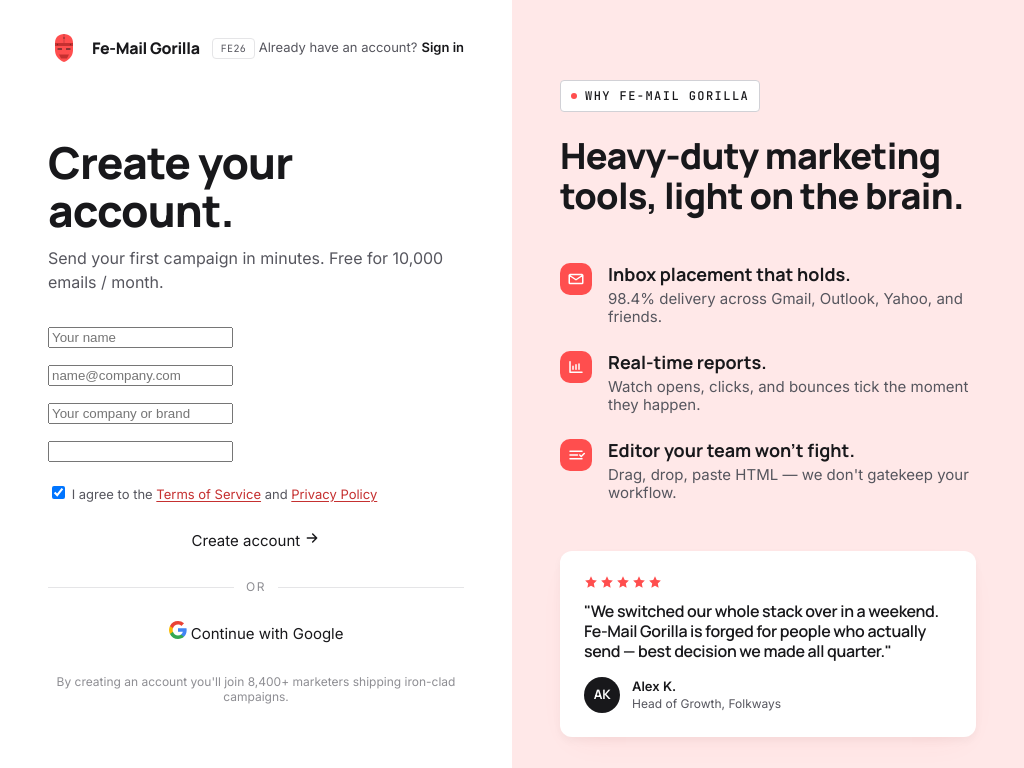
it: signup.vue › SIGNUP-03: unticked terms is blocked
Type "ok@example.com" into the field with placeholder "name@company.com" at (140, 376), box [48, 365, 233, 386]
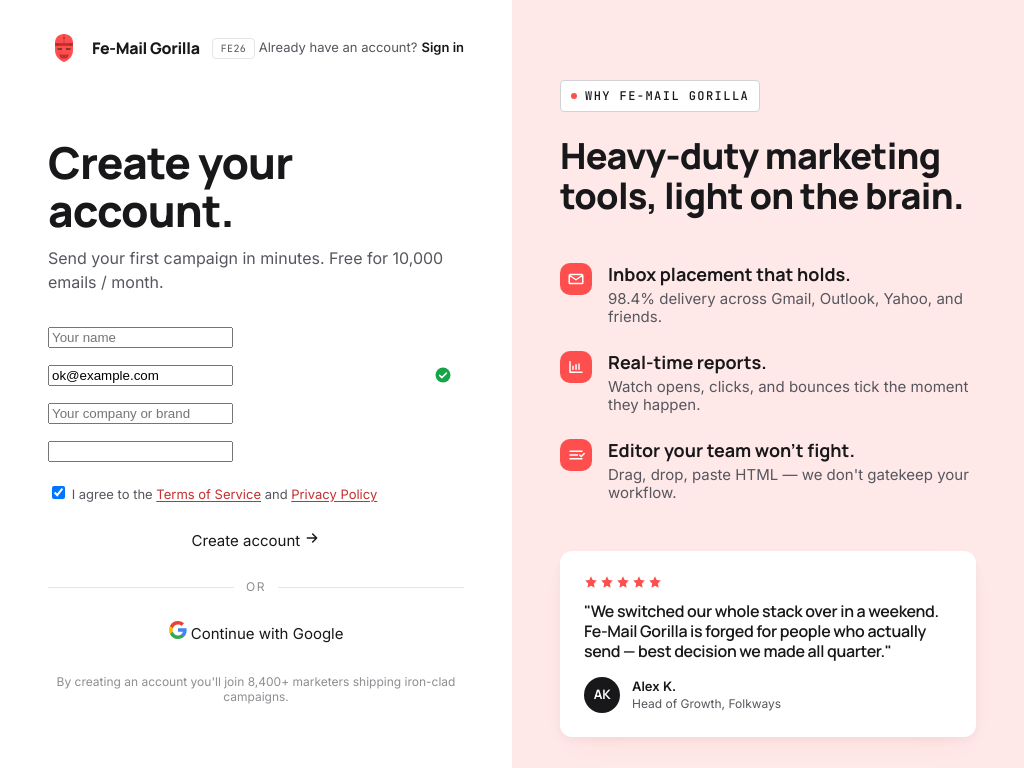
Type "longenough1" into the password field at (140, 452), box [48, 442, 233, 462]
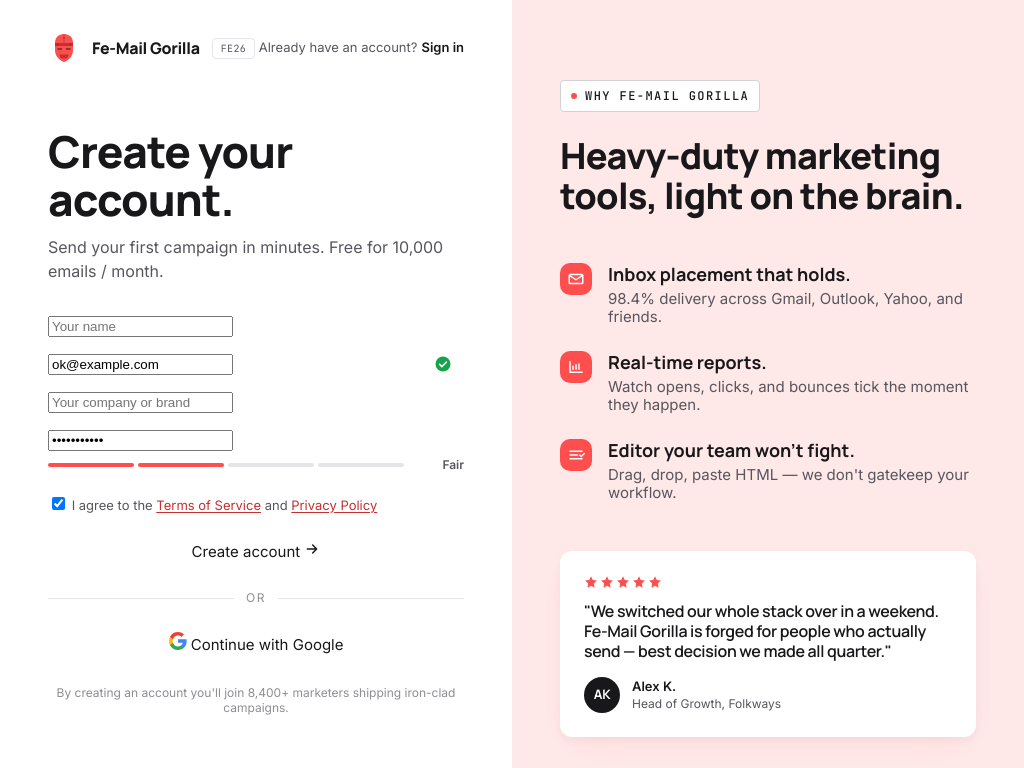
Click the checkbox labelled "I agree to the Terms of Service and Privacy Policy" at (58, 504), box [52, 497, 65, 510]
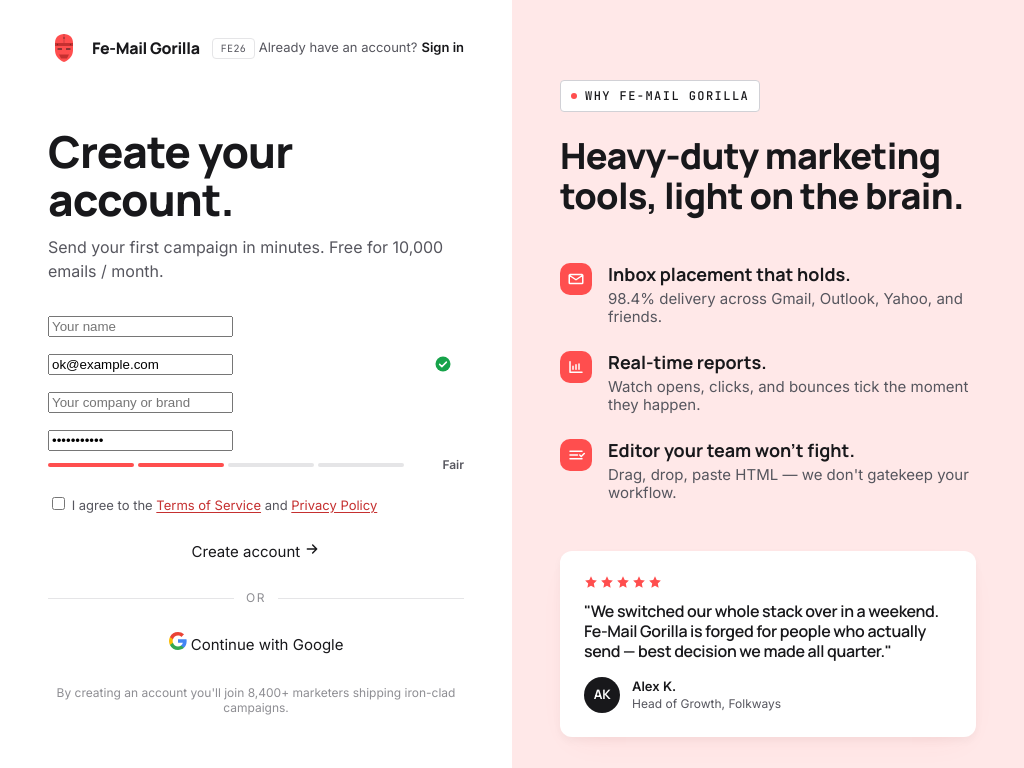
Submit the form, box [48, 316, 464, 716]
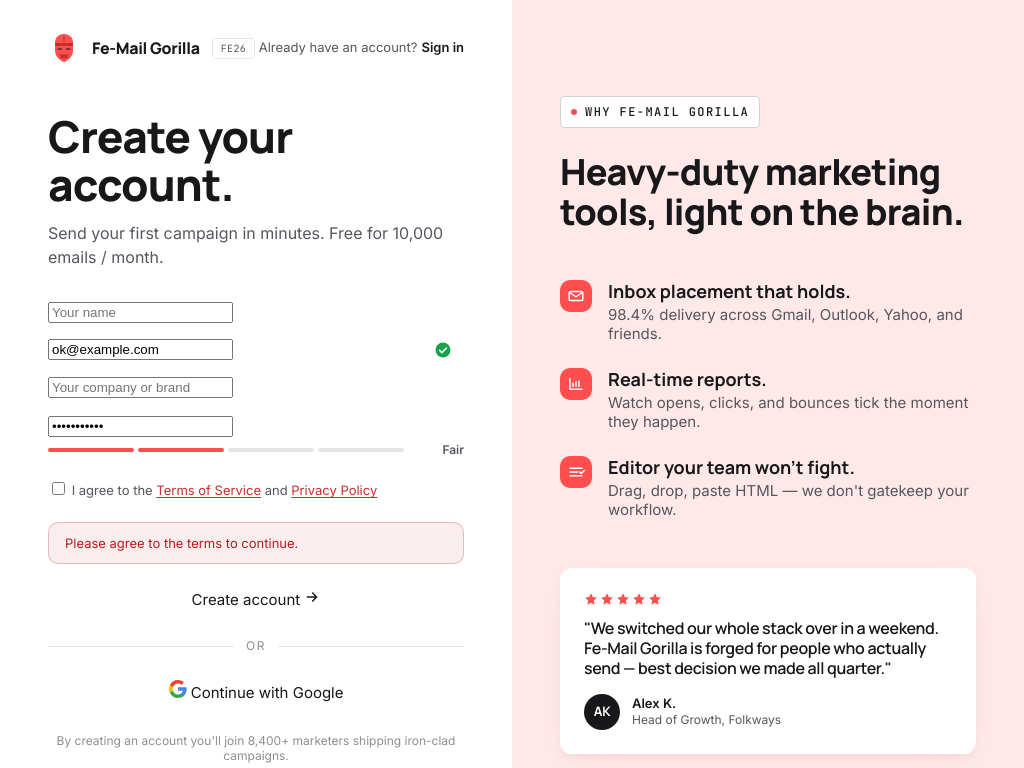
Check: the message with class "form-error" reads "Please agree to the terms to continue.", box [65, 535, 298, 551]
